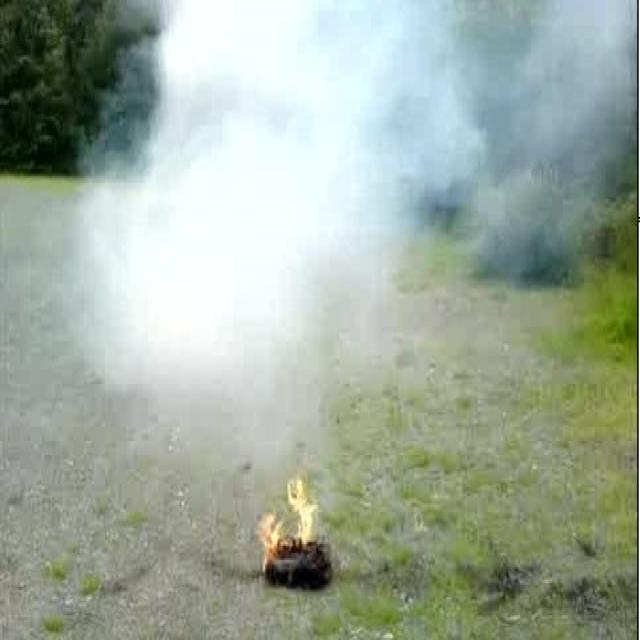Smoke: (57, 0, 636, 441)
